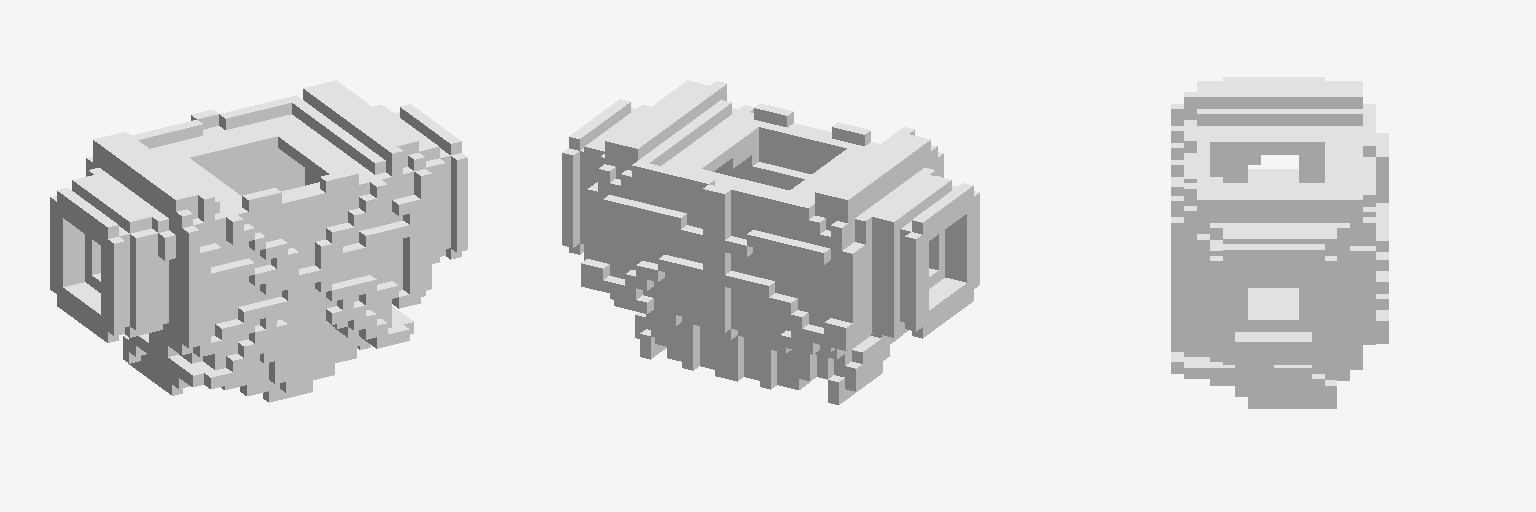
File: BASICPECHERA.obj
3 views of the same model, side by side, from view 1: azimuth 30°, elevation 25°; view 2: azimuth 150°, elevation 25°; view 3: azimuth 270°, elevation 25° (orthographic).
Visible parts, largest first — view 1: object 1; view 2: object 1; view 3: object 1.
Part boxes in pixels (x1,y1,x2,y2): object 1: (50,80,467,402); object 1: (562,80,979,404); object 1: (1171,77,1388,408).
Bounding box in the file's own units: 3.2 × 2 × 1.7.